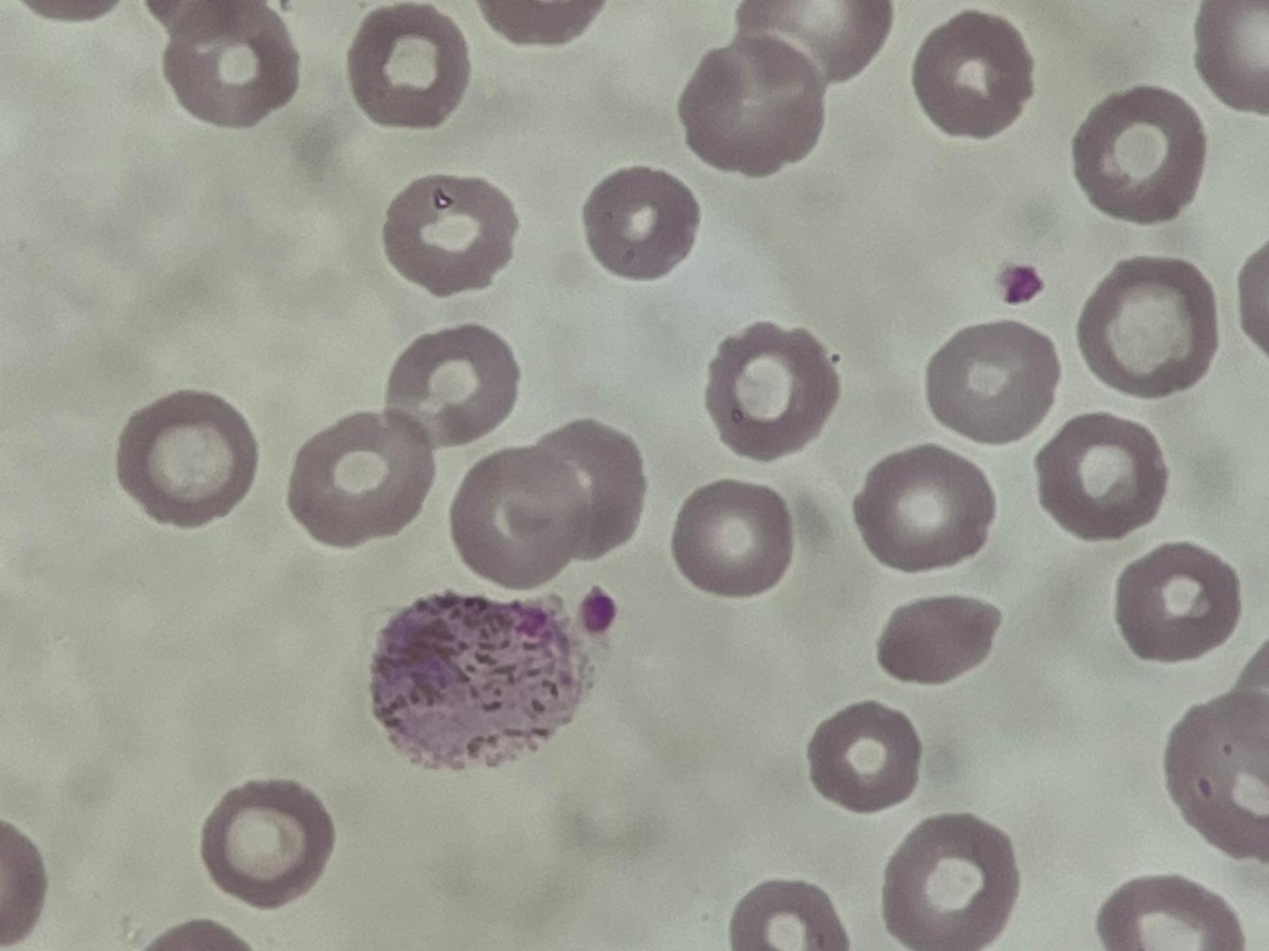Infected: (372, 591, 599, 777)
Uninfected: (450, 421, 641, 590), (1077, 254, 1221, 399), (679, 38, 829, 176), (289, 413, 438, 549), (116, 388, 262, 526), (850, 446, 994, 578), (704, 321, 841, 459), (1071, 85, 1208, 222), (881, 814, 1018, 948), (1164, 695, 1266, 861), (200, 780, 332, 907), (383, 174, 518, 297), (1035, 415, 1171, 537), (923, 321, 1059, 443), (161, 7, 298, 128), (387, 324, 519, 448), (345, 3, 473, 130), (911, 11, 1036, 139), (1111, 541, 1239, 661), (671, 481, 792, 595), (582, 166, 698, 280), (807, 701, 920, 812), (742, 1, 890, 85), (876, 595, 1000, 685)
